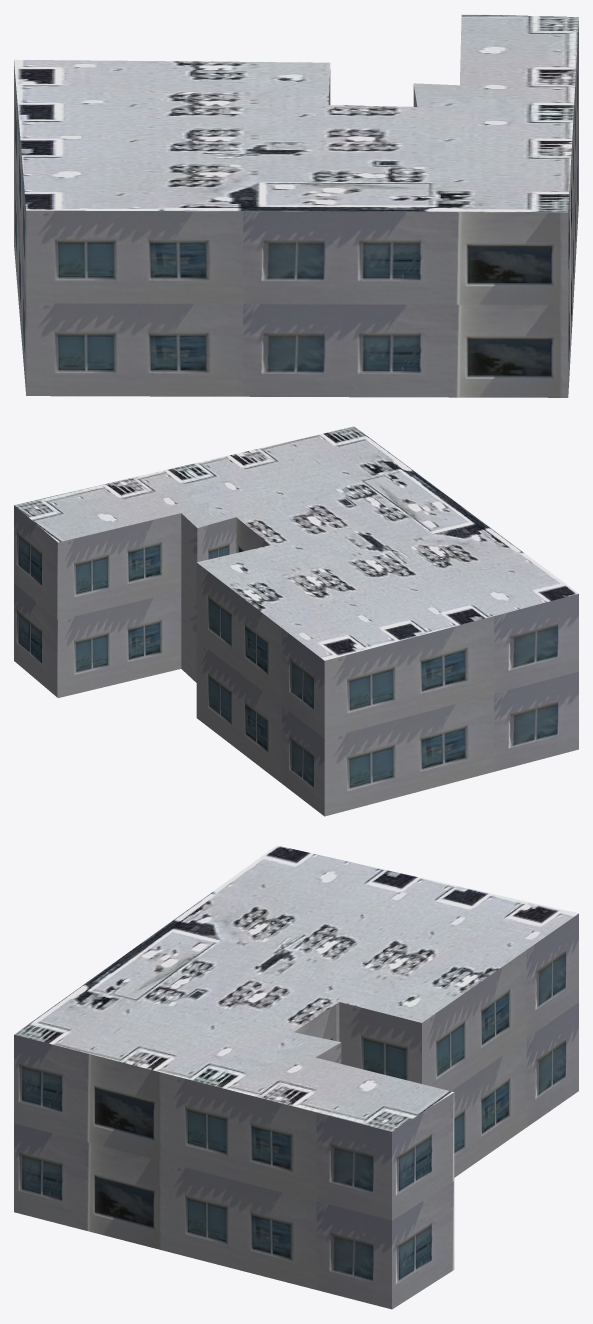
Rendered from ResTex__5223.fbx.
The picture shows the model from 3 angles, top to bottom: view 1: azimuth 30°, elevation 25°; view 2: azimuth 150°, elevation 25°; view 3: azimuth 270°, elevation 25°; orthographic projection. The views are drawn at different scales.
Parts seen in each view (by area): view 1: CityEngineMaterial_10_m, CityEngineMaterial_8_m; view 2: CityEngineMaterial_10_m, CityEngineMaterial_8_m; view 3: CityEngineMaterial_10_m, CityEngineMaterial_8_m.
Part boxes in pixels (<box>): CityEngineMaterial_10_m: <box>14,20,578,397</box>; CityEngineMaterial_8_m: <box>14,14,578,212</box>; CityEngineMaterial_10_m: <box>14,505,578,816</box>; CityEngineMaterial_8_m: <box>14,426,578,660</box>; CityEngineMaterial_10_m: <box>14,913,578,1309</box>; CityEngineMaterial_8_m: <box>14,845,578,1131</box>.
Size of the model in its own units: 20.75 by 6 by 17.3.
2 materials, 2 textured.
